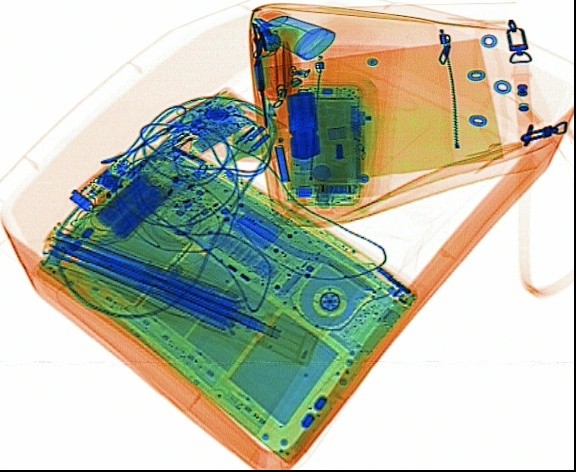powerbank: (89, 169, 179, 240)
